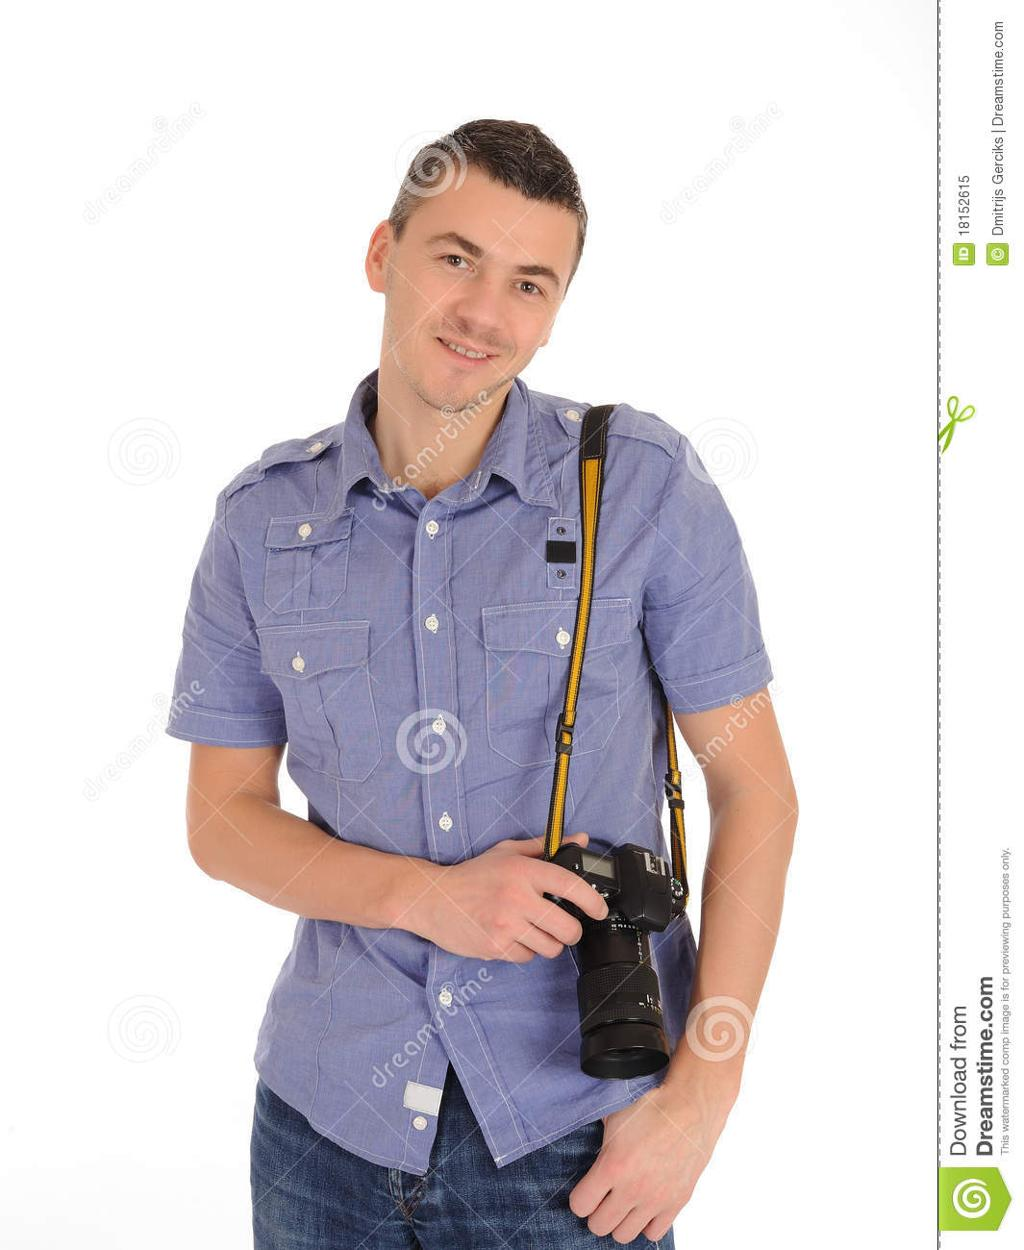face: (391, 159, 560, 413)
